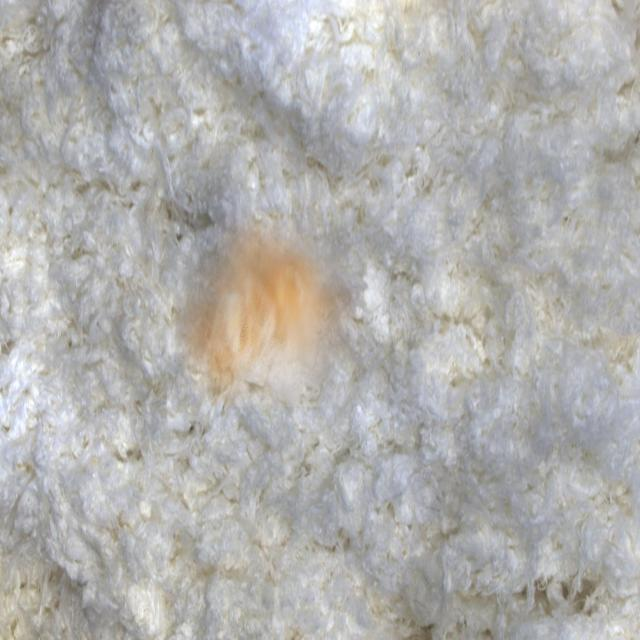dust: (176, 194, 367, 407)
